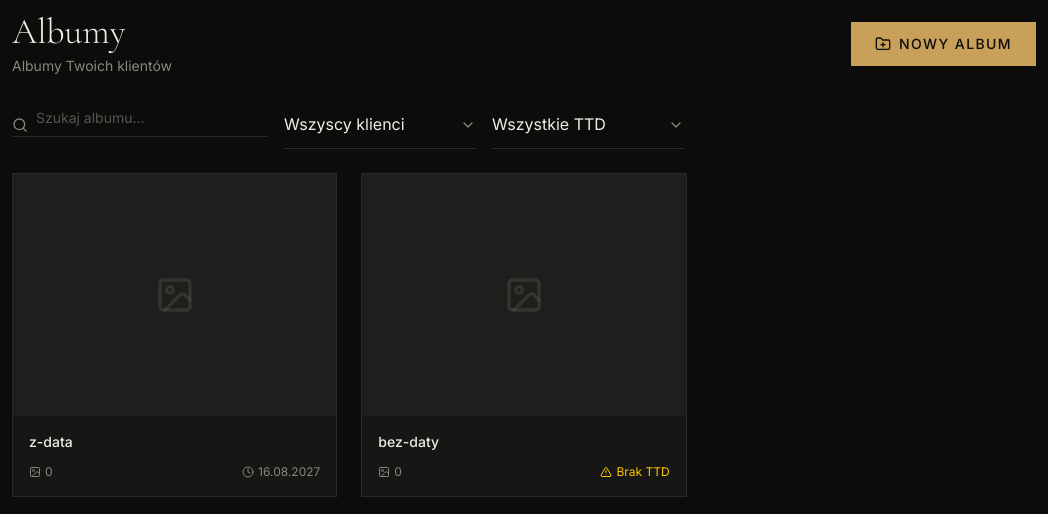
Test: PhotographerAlbums › The "without a date" filter is the complement of "with a date", so no album falls outside both
The width and height of the screenshot is (1048, 514).
Expected: the heading "z-data" is shown, [29,434,73,450]
// When / Then - "with a date" keeps only the dated one...
Select "Z datą wygaśnięcia" in the 2nd dropdown at (588, 124), box [492,100,684,149]
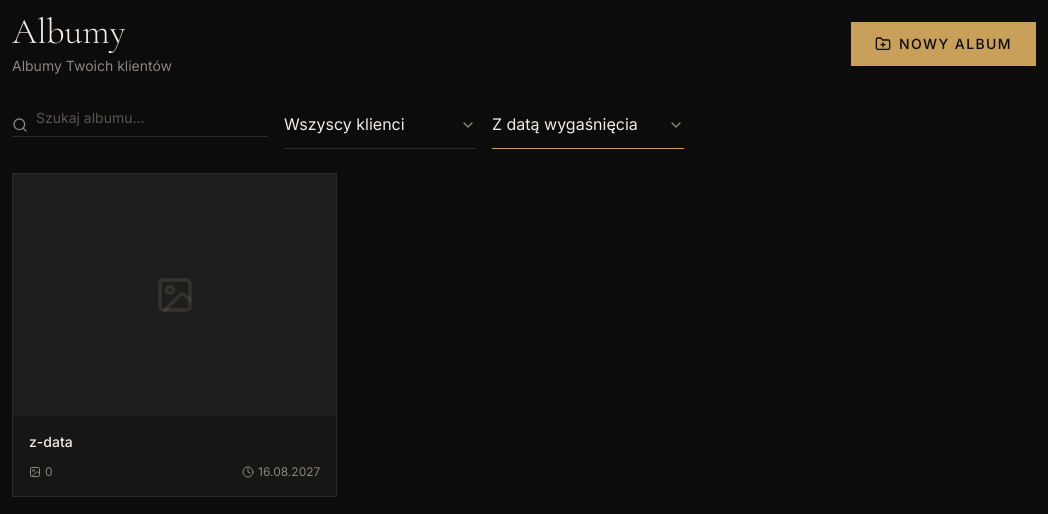
Expected: the heading "z-data" is shown, [29,434,73,450]
Expected: the link "bez-daty" is gone
// ...and "without a date" keeps exactly the other one
Select "Bez daty" in the 2nd dropdown at (588, 124), box [492,100,684,149]
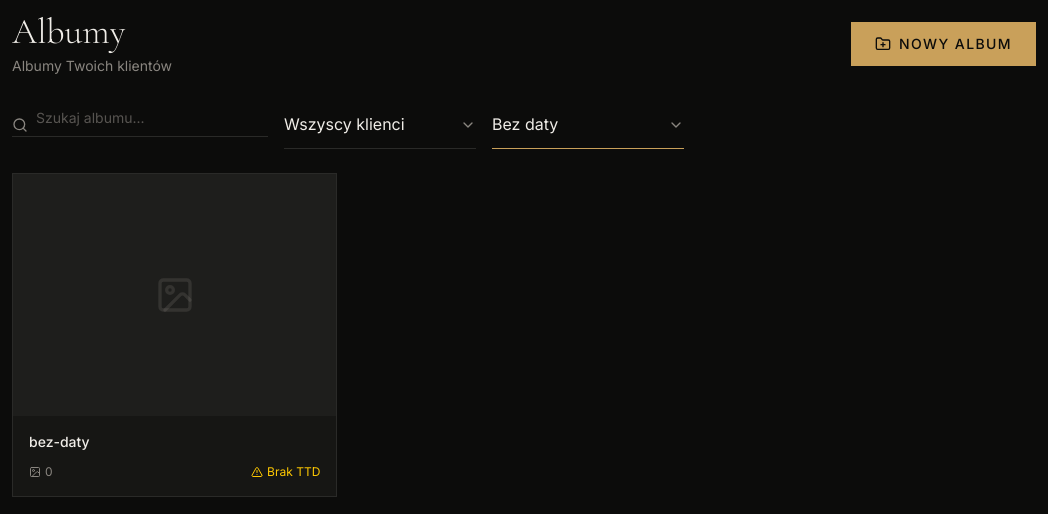
Expected: the heading "bez-daty" is shown, [29,434,90,450]
Expected: the link "z-data" is gone
